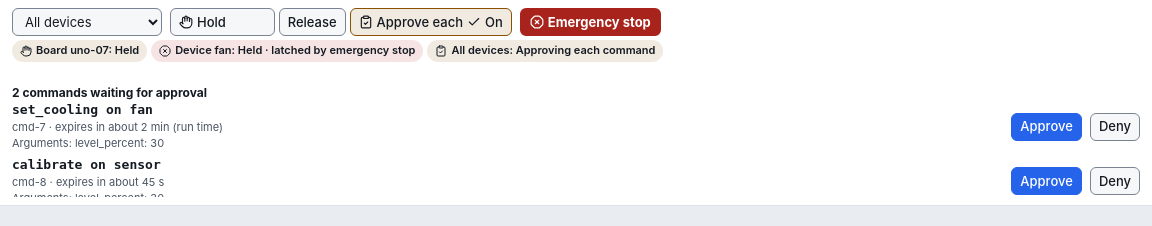
Test case: the interrupt controls on the live screen › sends the emergency stop even while another control waits for the node, and refuses the others meanwhile
The image size is (1152, 226).
Click the button named "Approve each command" at (431, 22), box [350,8,512,36]
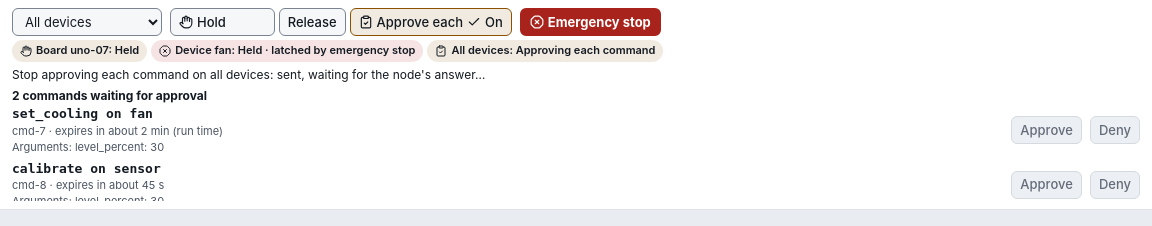
Expected: the button "Emergency stop" is enabled, [520,8,661,36]
Expected: the button with aria-label "Approve cmd-7" is disabled, [1011,116,1082,144]
Expected: the message is shown, [12,66,485,83]
Click the button "Hold" at (222, 22), box [170,8,275,36]
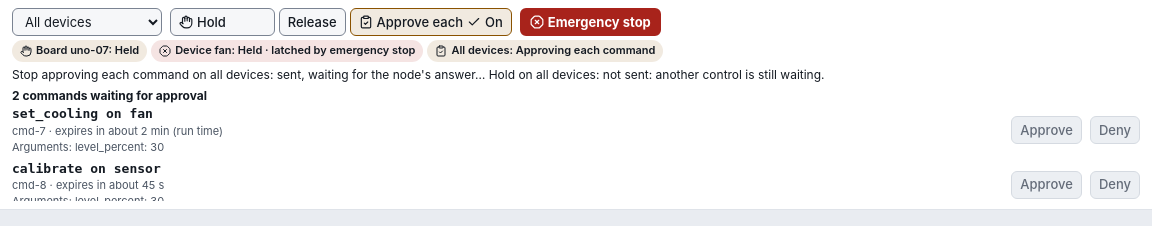
Expected: the message shows "Hold on all devices: not sent: another control is still waiting.", [12,67,824,82]
Click the button "Emergency stop" at (590, 22), box [520,8,661,36]
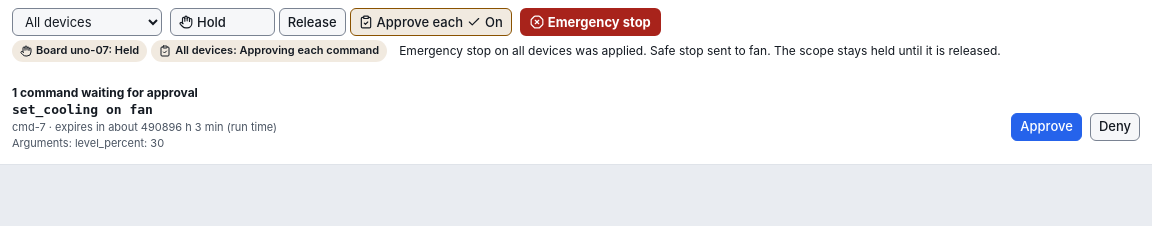
Expected: the text "Safe stop sent to fan." is shown, [399,43,1001,58]
